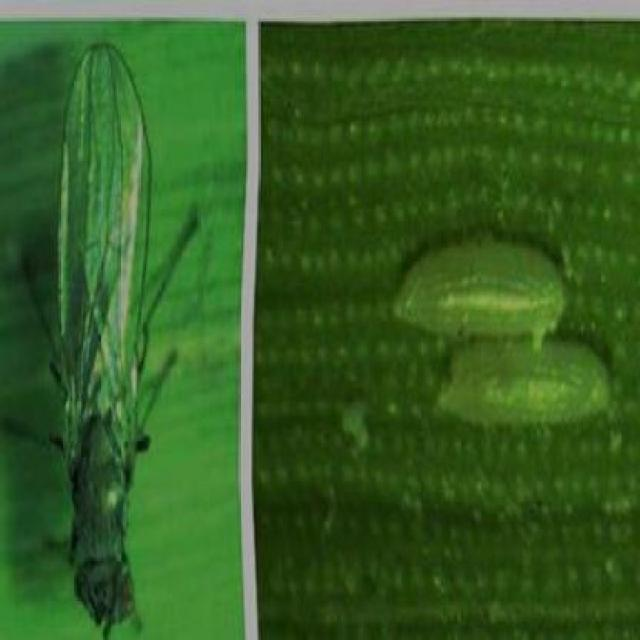whorl-maggot: (384, 232, 571, 343), (428, 335, 624, 436)
